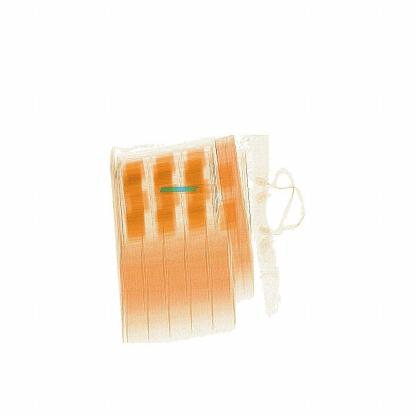pliers: (158, 179, 221, 202)
